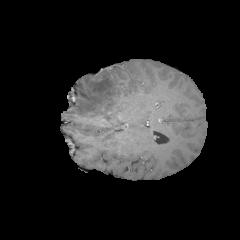glioma: (68, 70, 121, 119)
